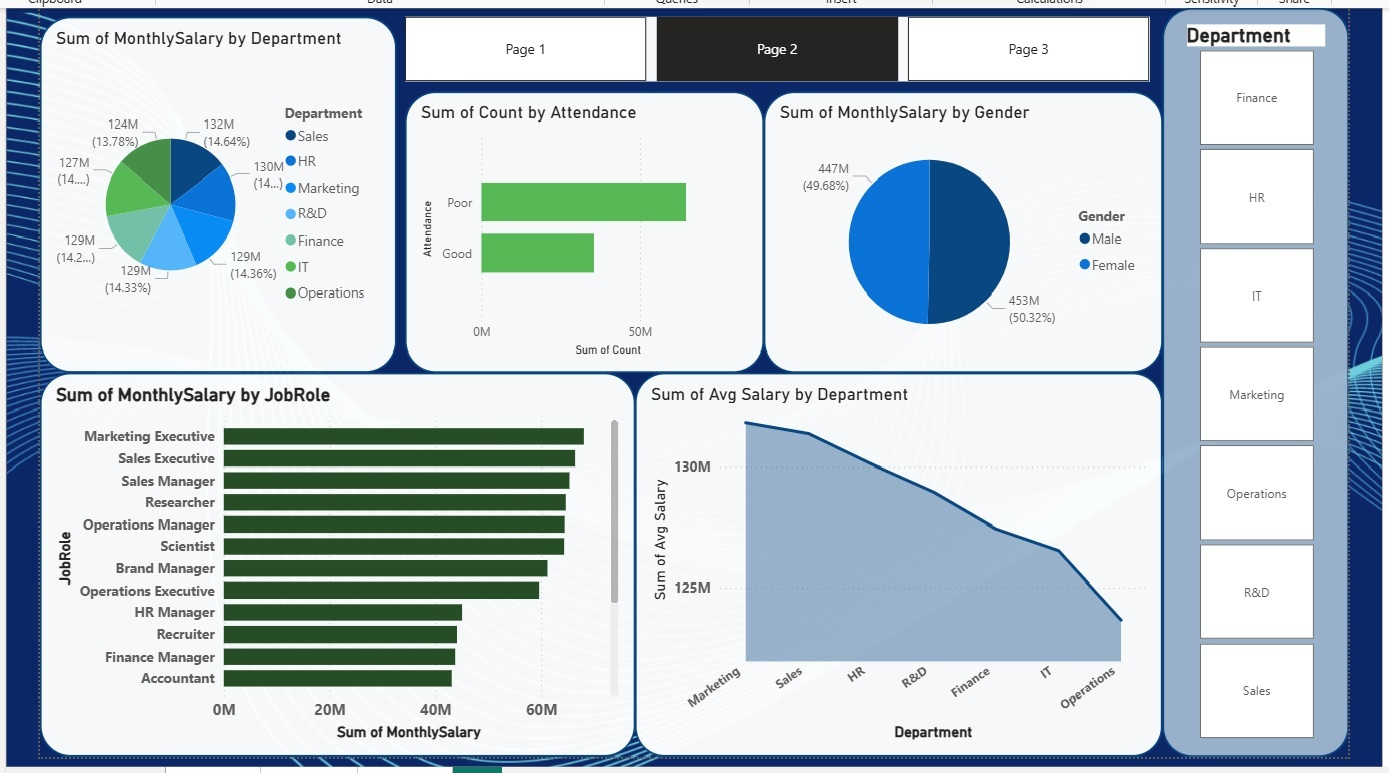

The dashboard page shown, as its layout file describes it:
{"tool":"powerbi","page":{"name":"Page 2","canvas":[1280,720],"ordinal":1},"visuals":[{"type":"barChart","fields":{"Category":["Employee_Data.JobRole"],"Y":["Sum(Employee_Data.MonthlySalary)"]},"box":[0,351,582.1,369.3],"z":0},{"type":"slicer","fields":{"Values":["Employee_Data.Department"]},"box":[1097.8,0,182.5,720.4],"z":1000},{"type":"pieChart","fields":{"Category":["Employee_Data.Gender"],"Y":["Sum(Employee_Data.MonthlySalary)"]},"box":[708,80.7,390.1,270.2],"z":2000},{"type":"barChart","fields":{"Y":["Sum(Employee_Data.Count)"],"Category":["Employee_Data.Attendance"]},"box":[357.1,80.7,351,270.2],"z":3000},{"type":"areaChart","fields":{"Y":["Sum(Employee_Data.Avg Salary)"],"Category":["Employee_Data.Department"]},"box":[582.1,351,516,369.3],"z":4000},{"type":"pieChart","fields":{"Y":["Sum(Employee_Data.MonthlySalary)"],"Category":["Employee_Data.Department"]},"box":[0,8.6,348.5,342.4],"z":5000},{"type":"pageNavigator","box":[357.1,8.6,728.8,62.4],"z":6000}]}

Visuals, with their boxes in screenshot pixels (x1, y1, x2, y2):
barChart - Employee_Data.JobRole x Sum(Employee_Data.MonthlySalary): x1=36, y1=370, x2=631, y2=747
slicer - Employee_Data.Department: x1=1159, y1=11, x2=1345, y2=748
pieChart - Employee_Data.Gender x Sum(Employee_Data.MonthlySalary): x1=760, y1=93, x2=1159, y2=370
barChart - Sum(Employee_Data.Count) x Employee_Data.Attendance: x1=401, y1=93, x2=760, y2=370
areaChart - Sum(Employee_Data.Avg Salary) x Employee_Data.Department: x1=631, y1=370, x2=1159, y2=747
pieChart - Sum(Employee_Data.MonthlySalary) x Employee_Data.Department: x1=36, y1=20, x2=393, y2=370
pageNavigator: x1=401, y1=20, x2=1147, y2=83
